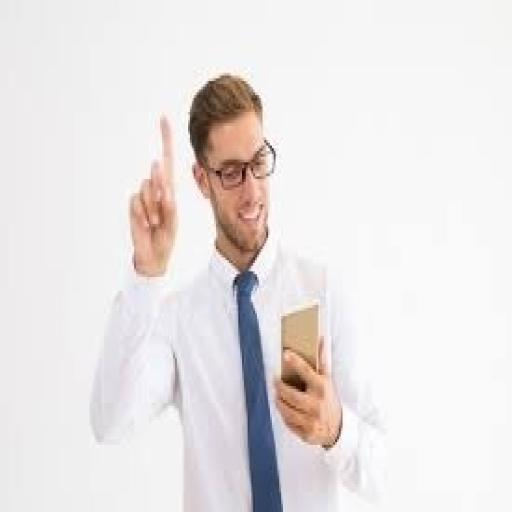texting: (88, 70, 389, 509)
